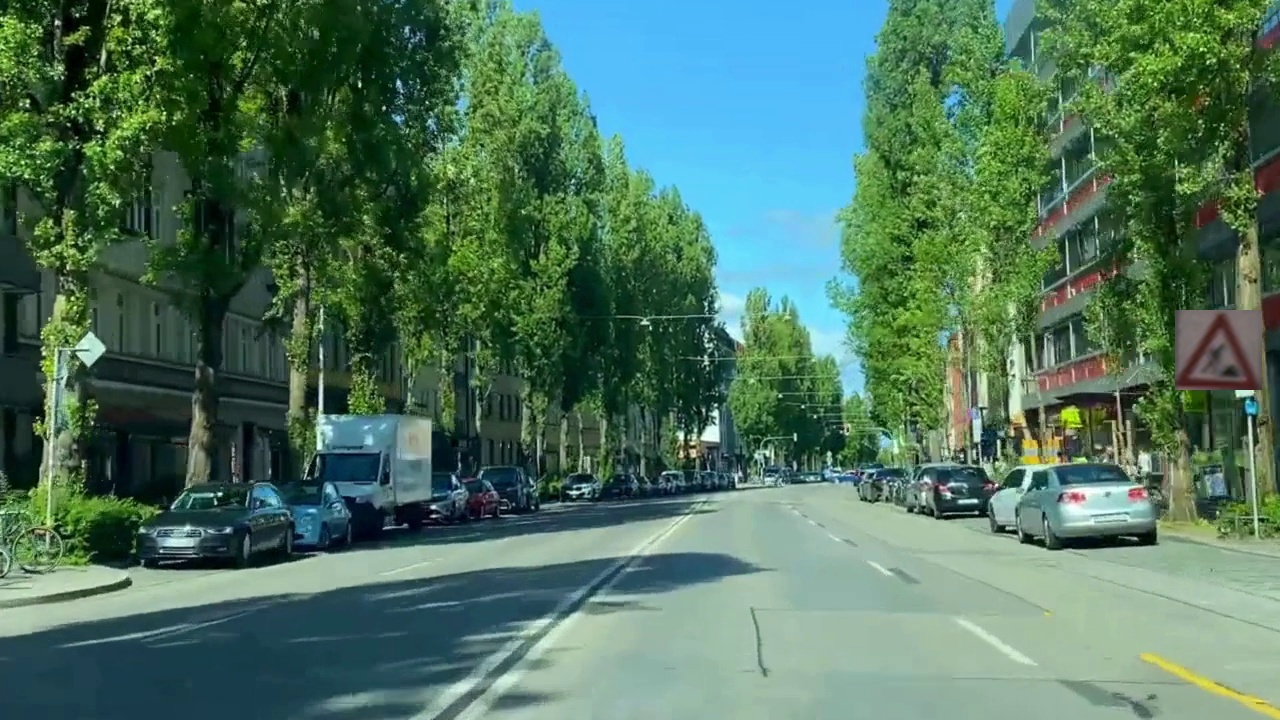Road work: (1175, 310, 1262, 390)
